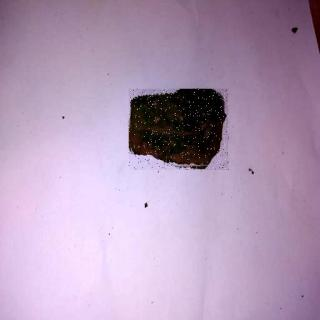Anthracnose: (130, 90, 230, 171)
